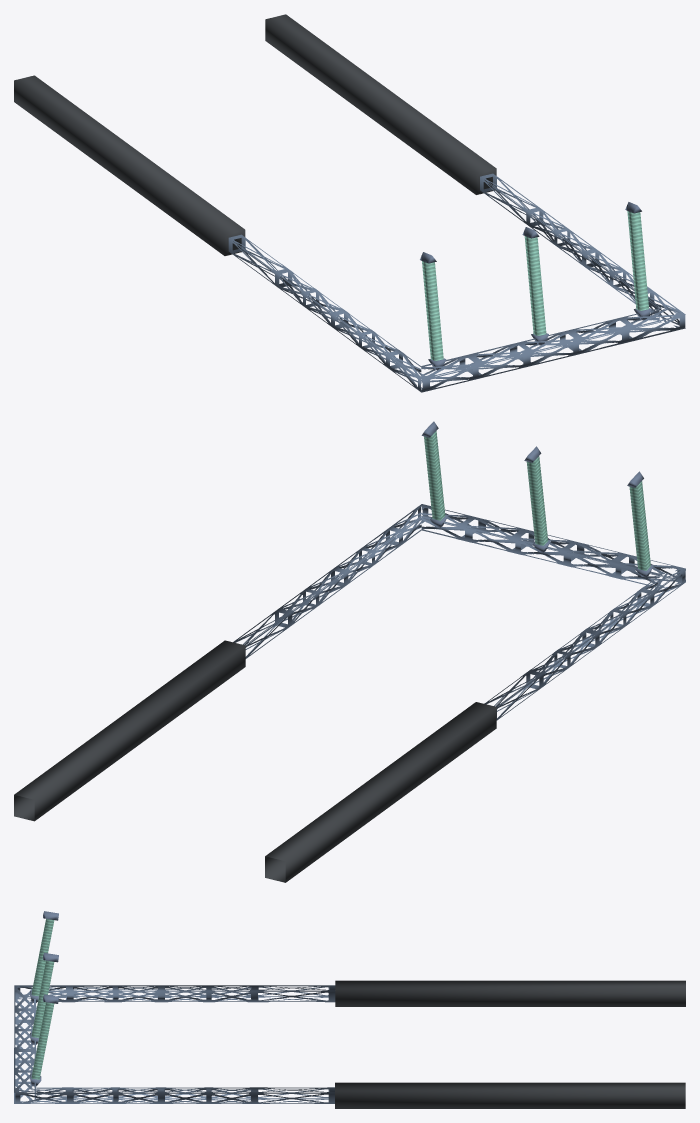
Rendered from pylon_substation_low.obj.
3 renders of one model, top to bottom at view 1: azimuth 30°, elevation 25°; view 2: azimuth 150°, elevation 25°; view 3: azimuth 270°, elevation 25°, orthographic. The views are drawn at different scales.
Parts seen in each view (by area): view 1: Pylon_Substation_LOD1; view 2: Pylon_Substation_LOD1; view 3: Pylon_Substation_LOD1.
Part boxes in pixels (bbox=[...]): Pylon_Substation_LOD1: bbox=[14, 14, 685, 392]; Pylon_Substation_LOD1: bbox=[14, 421, 685, 882]; Pylon_Substation_LOD1: bbox=[14, 911, 685, 1108].
Bounding box in the file's own units: 12.2 × 5.19 × 31.41.
Materials: 1 (1 with a texture image).
